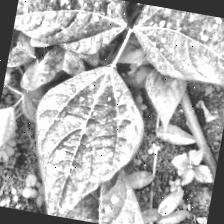Bean Rust: (19, 59, 154, 224), (131, 4, 224, 103), (52, 159, 163, 224), (11, 0, 130, 59)
